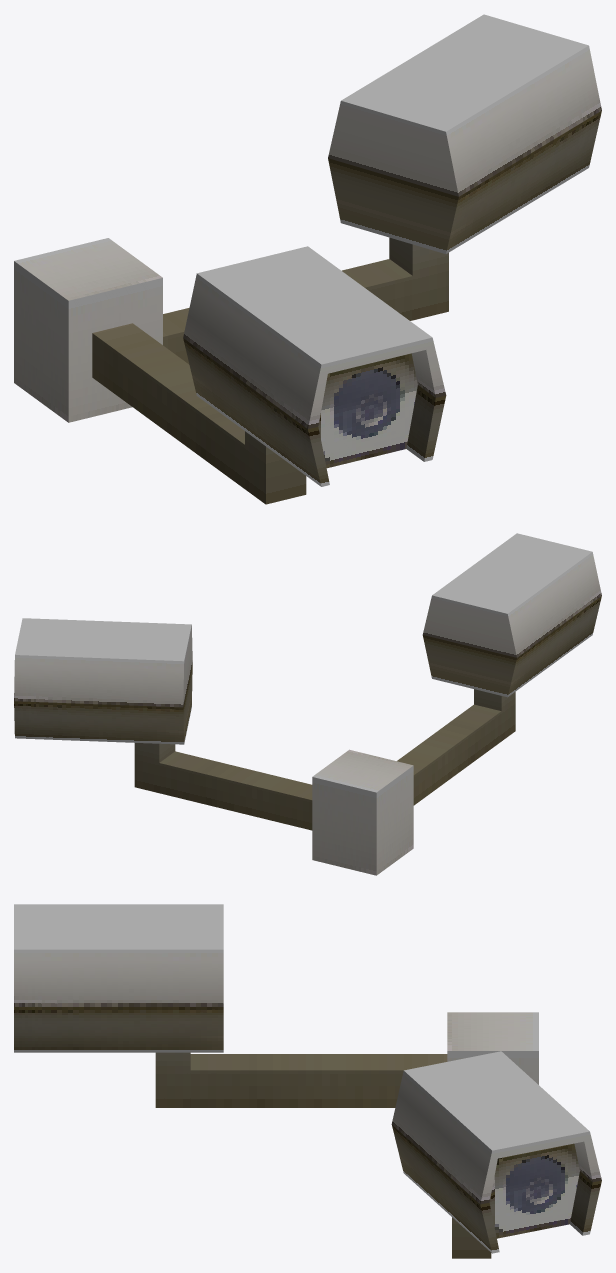
The model's file is env_camera_pole_medium.glb.
The picture shows the model from 3 angles, top to bottom: view 1: azimuth 30°, elevation 25°; view 2: azimuth 150°, elevation 25°; view 3: azimuth 270°, elevation 25°; orthographic projection. The views are drawn at different scales.
Parts seen in each view (by area): view 1: env_camera_pole_medium; view 2: env_camera_pole_medium; view 3: env_camera_pole_medium.
Part boxes in pixels (x1=…): env_camera_pole_medium: x1=14, y1=14, x2=601, y2=504; env_camera_pole_medium: x1=14, y1=533, x2=601, y2=875; env_camera_pole_medium: x1=14, y1=904, x2=601, y2=1258.
Size of the model in its own units: 0.00906 by 0.00376 by 0.00961.
3 materials, 3 textured.
